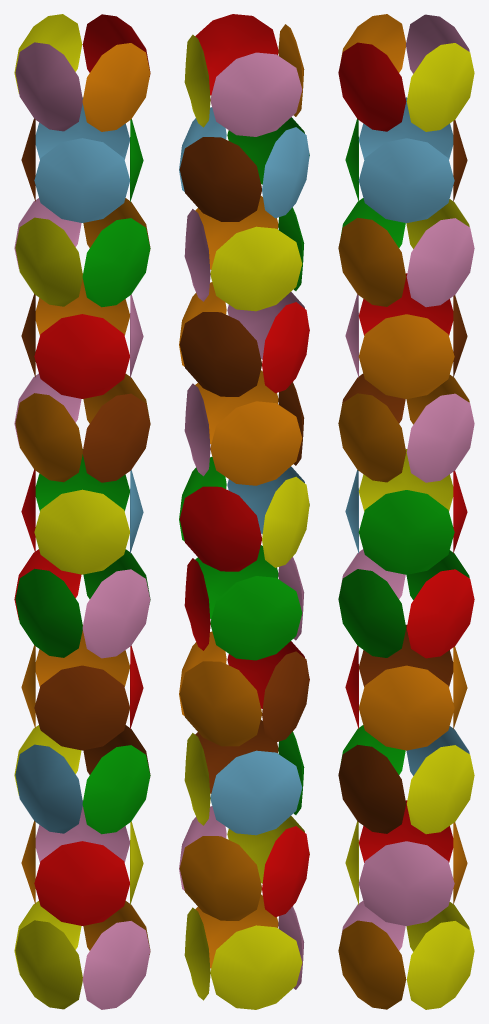
The model's file is pillar_marble.FBX.
3 renders of one model, left to right at view 1: azimuth 90°, elevation 25°; view 2: azimuth 150°, elevation 25°; view 3: azimuth 270°, elevation 25°, orthographic.
Parts seen in each view (by area): view 1: オブジェクト410_002; view 2: オブジェクト410_002; view 3: オブジェクト410_002.
Boxes of the visible parts, <box> form: オブジェクト410_002: <box>14,14,150,1009</box>; オブジェクト410_002: <box>179,14,309,1009</box>; オブジェクト410_002: <box>338,14,474,1009</box>.
Bounding box in the file's own units: 10.82 × 84.52 × 10.83.
